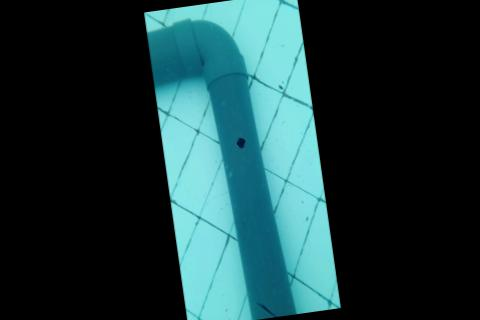kebocoran: (233, 133, 248, 152)
keretakan: (257, 298, 279, 319)
